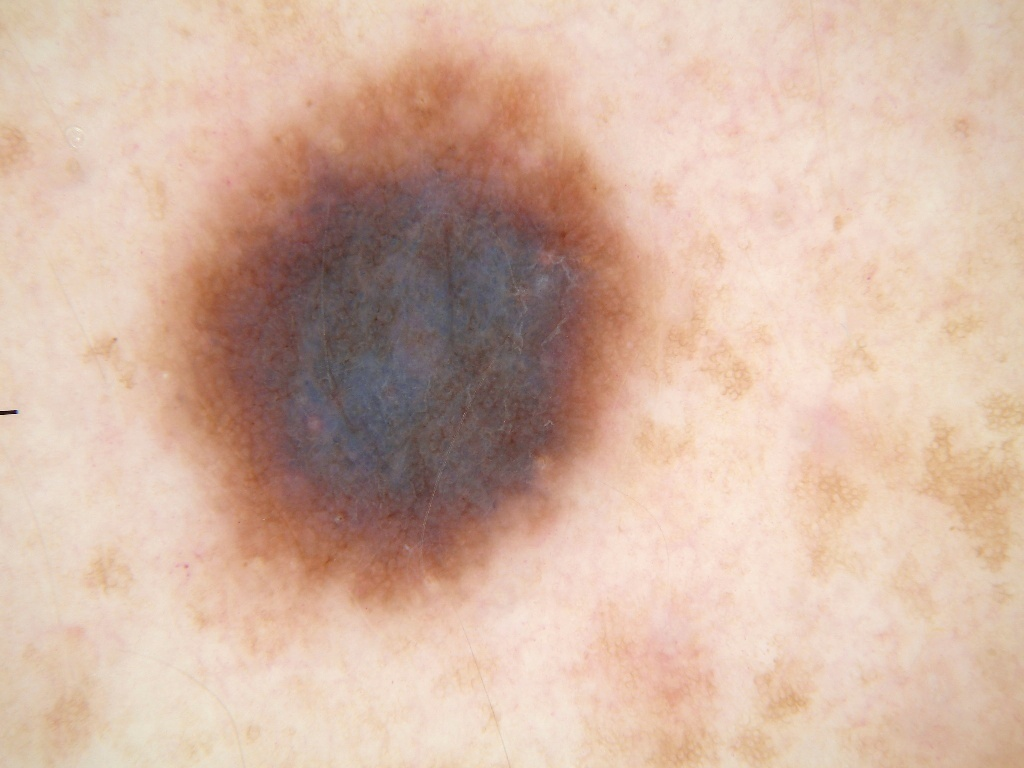Detected Lesion: (140, 51, 671, 614)
